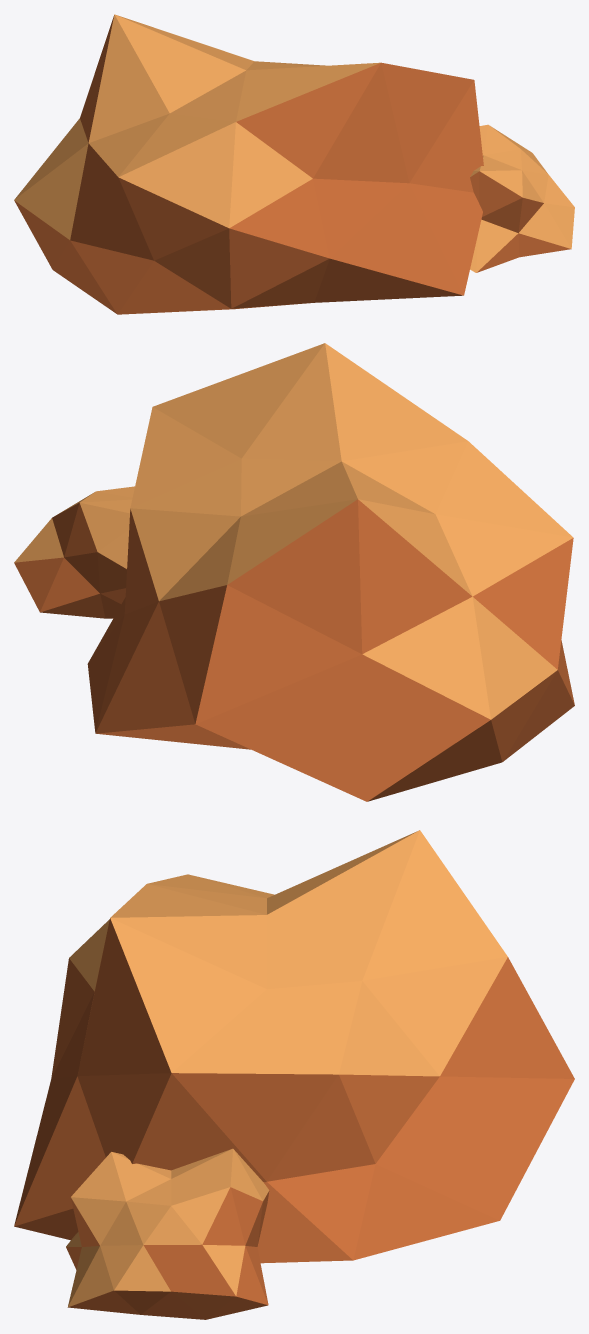
File: CA_Roca_Grande_A.obj
3 views of the same model, one above another, from view 1: azimuth 30°, elevation 25°; view 2: azimuth 150°, elevation 25°; view 3: azimuth 270°, elevation 25° (orthographic). The views are drawn at different scales.
Parts seen in each view (by area): view 1: CA_Roca_Grande_A; view 2: CA_Roca_Grande_A; view 3: CA_Roca_Grande_A.
Boxes of the visible parts, x1=… form: CA_Roca_Grande_A: x1=14, y1=14, x2=574, y2=314; CA_Roca_Grande_A: x1=14, y1=343, x2=574, y2=801; CA_Roca_Grande_A: x1=14, y1=830, x2=574, y2=1319.
Bounding box in the file's own units: 5.69 × 2.58 × 4.69.
